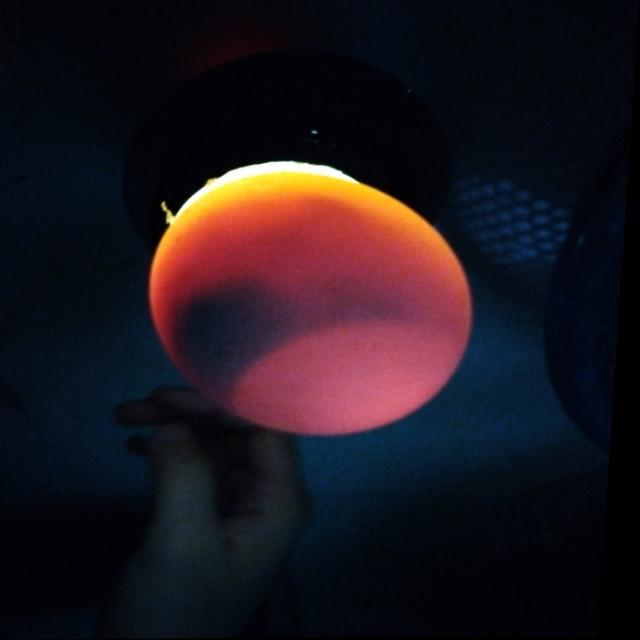Area Infectada: (167, 280, 415, 412)
